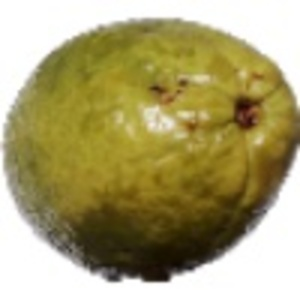goiaba: (8, 12, 292, 281)
